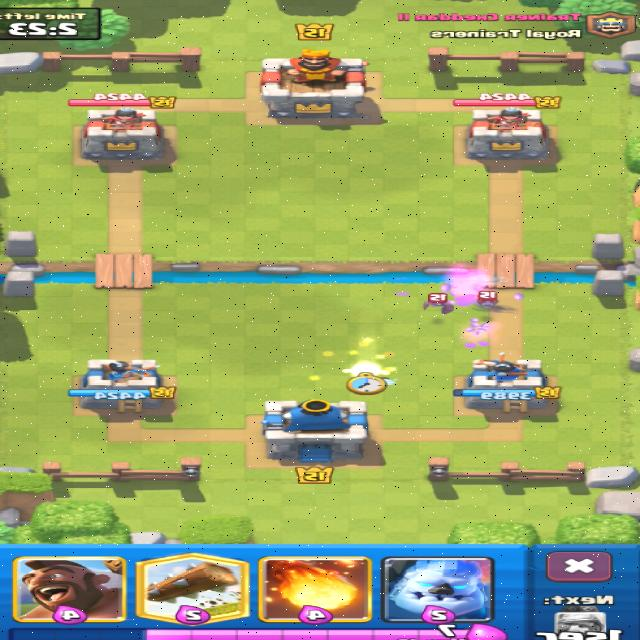Enemy-Bat: (424, 294, 454, 314), (479, 289, 498, 308)
Enemy-KingTower: (261, 49, 366, 117)
Enemy-PrincessTower: (83, 108, 164, 159), (468, 107, 548, 158)
Player-IceSpirit: (343, 362, 390, 375)
Player-KingTower: (263, 399, 368, 462)
Player-PrincessTower: (454, 353, 561, 413), (70, 359, 174, 413)
